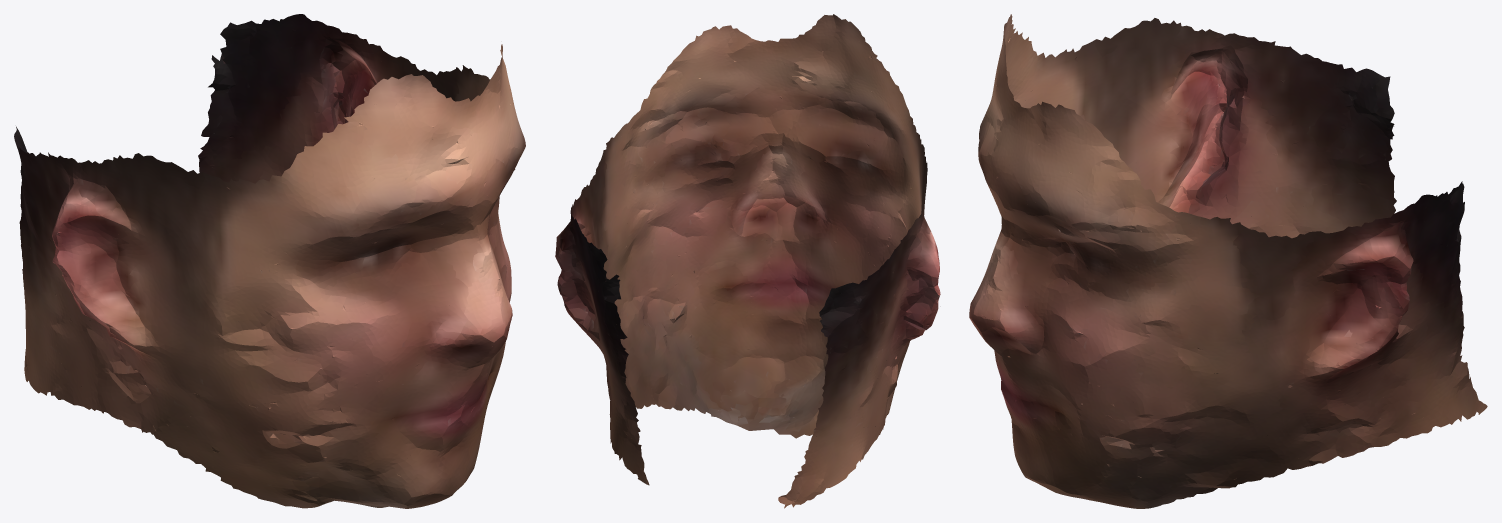
The model's file is Manuel_Photogrammetry.fbx.
The picture shows the model from 3 angles, left to right: view 1: azimuth 30°, elevation 25°; view 2: azimuth 150°, elevation 25°; view 3: azimuth 270°, elevation 25°; orthographic projection. The views are drawn at different scales.
Parts seen in each view (by area): view 1: texturedMesh; view 2: texturedMesh; view 3: texturedMesh.
Boxes of the visible parts, <box> form: texturedMesh: <box>14,14,525,508</box>; texturedMesh: <box>555,14,940,508</box>; texturedMesh: <box>969,14,1487,508</box>.
Bounding box in the file's own units: 26.62 × 29.08 × 29.7.
Materials: 1 (1 with a texture image).
